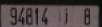1: (34, 7, 39, 25)
4: (18, 7, 25, 25), (42, 7, 48, 26)
8: (25, 7, 33, 25), (84, 8, 91, 26)
9: (10, 7, 17, 25)
a: (63, 7, 69, 24)
